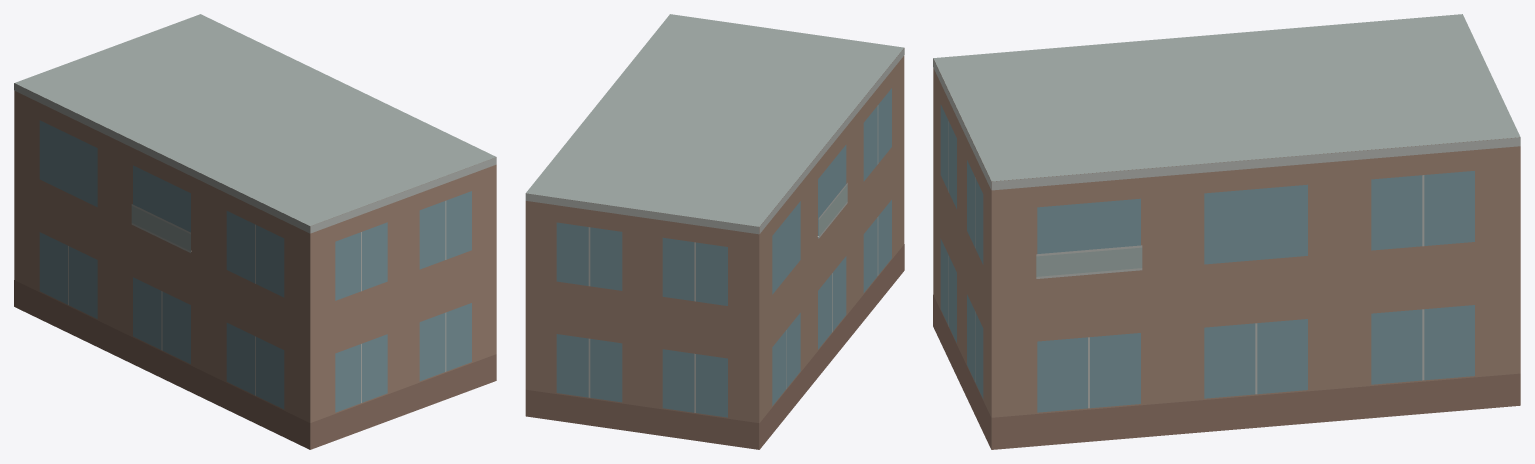
Rendered from survey-upis-32741155.glb.
The picture shows the model from 3 angles, left to right: view 1: azimuth 30°, elevation 25°; view 2: azimuth 150°, elevation 25°; view 3: azimuth 270°, elevation 25°; orthographic projection. The views are drawn at different scales.
Parts seen in each view (by area): view 1: survey-upis-32741155.tmp; view 2: survey-upis-32741155.tmp; view 3: survey-upis-32741155.tmp.
Boxes of the visible parts, <box> form: survey-upis-32741155.tmp: <box>14,14,496,449</box>; survey-upis-32741155.tmp: <box>525,14,904,449</box>; survey-upis-32741155.tmp: <box>933,14,1520,449</box>.
Bounding box in the file's own units: 9.78 × 7.3 × 14.49.
